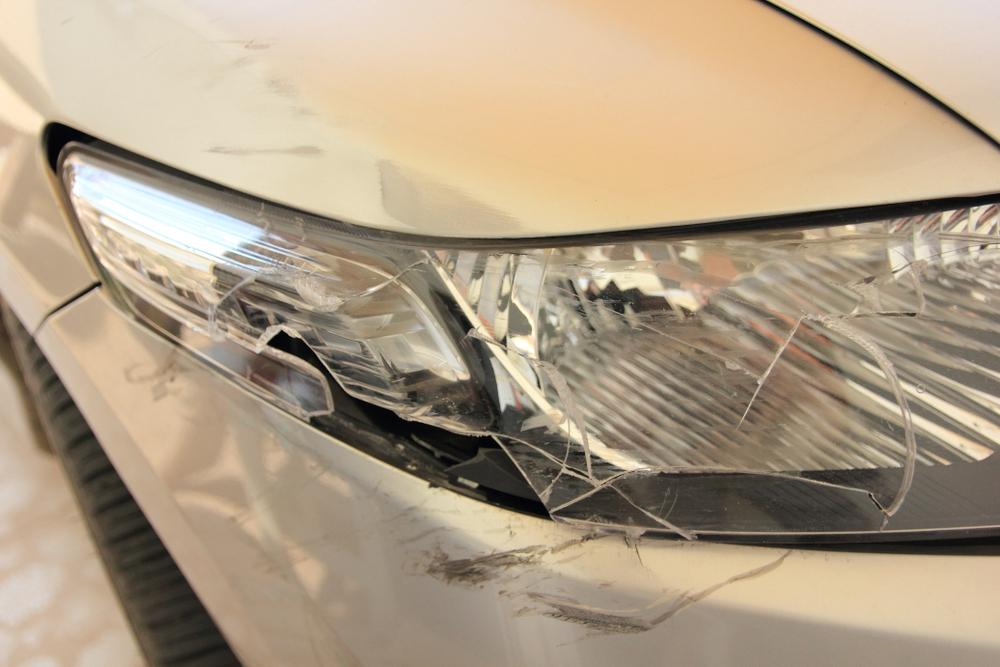lamp broken: (54, 140, 1000, 551)
scratch: (127, 351, 370, 667), (191, 22, 529, 238), (379, 470, 797, 644)
